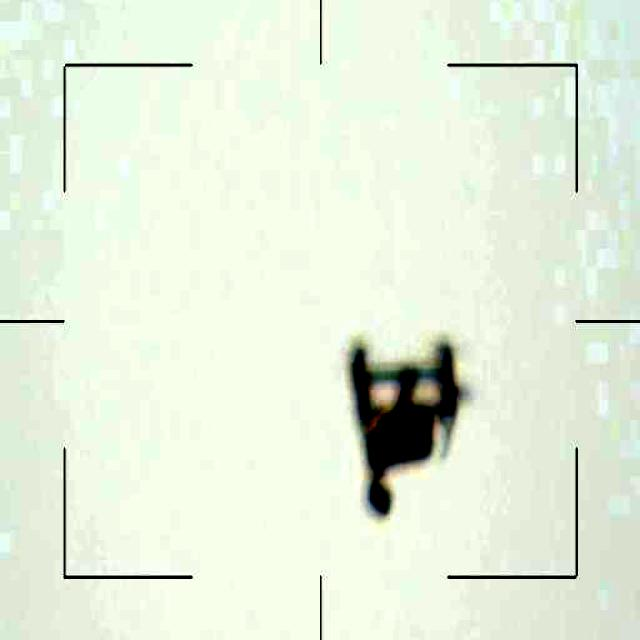bird: (330, 325, 482, 516)
